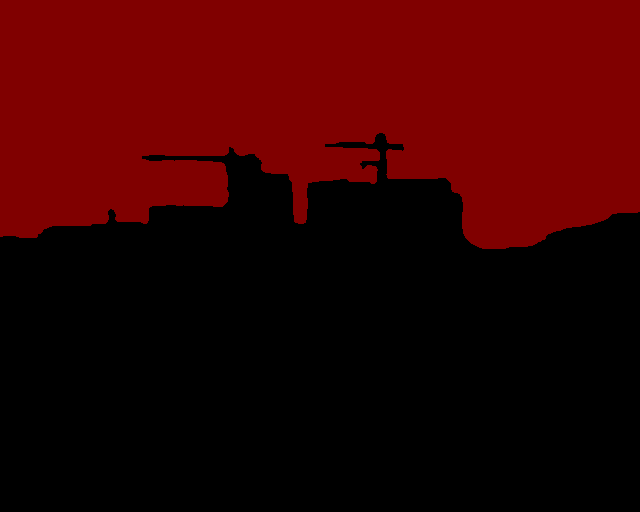Sky: (1, 1, 639, 249)
